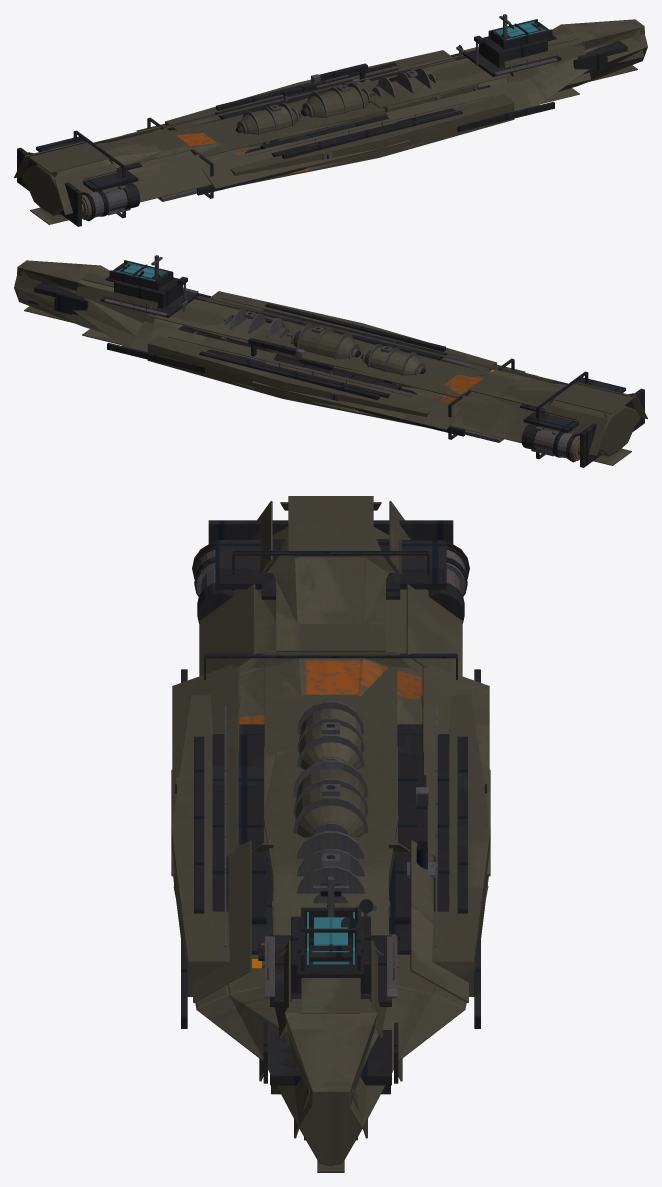
The model's file is atlas_production_v1_lod2.glb.
The picture shows the model from 3 angles, top to bottom: view 1: azimuth 30°, elevation 25°; view 2: azimuth 150°, elevation 25°; view 3: azimuth 270°, elevation 25°; orthographic projection. The views are drawn at different scales.
Visible parts, largest first — view 1: LOD2_Hull, LOD2_Armor, LOD2_Mechanical, LOD2_Canopy; view 2: LOD2_Hull, LOD2_Armor, LOD2_Mechanical, LOD2_Canopy; view 3: LOD2_Hull, LOD2_Armor, LOD2_Mechanical, LOD2_Canopy.
Part boxes in pixels (x1,y1,x2,y2): LOD2_Hull: (14,19,647,224); LOD2_Armor: (17,19,633,226); LOD2_Mechanical: (34,14,557,219); LOD2_Canopy: (495,21,546,39); LOD2_Hull: (14,260,647,465); LOD2_Armor: (28,260,644,467); LOD2_Mechanical: (104,255,627,460); LOD2_Canopy: (115,262,166,280); LOD2_Hull: (171,496,490,1172); LOD2_Armor: (181,520,480,1140); LOD2_Mechanical: (176,549,485,998); LOD2_Canopy: (307,912,354,964).
Size of what is drawn, in the model's own units: 21.56 by 3.4 by 4.97.
8 materials, 8 textured.
